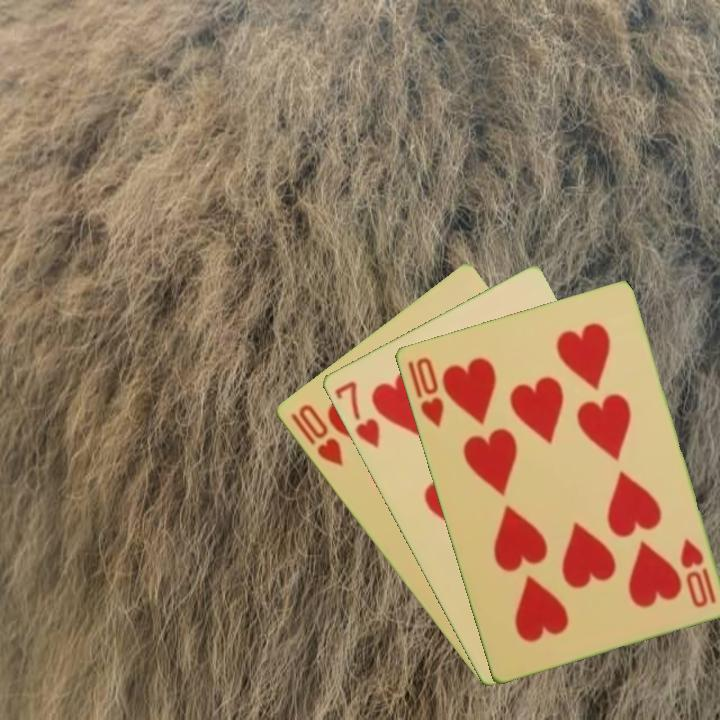10h: (286, 400, 346, 469), (676, 535, 719, 611), (412, 353, 446, 431)
7h: (330, 377, 383, 451)
